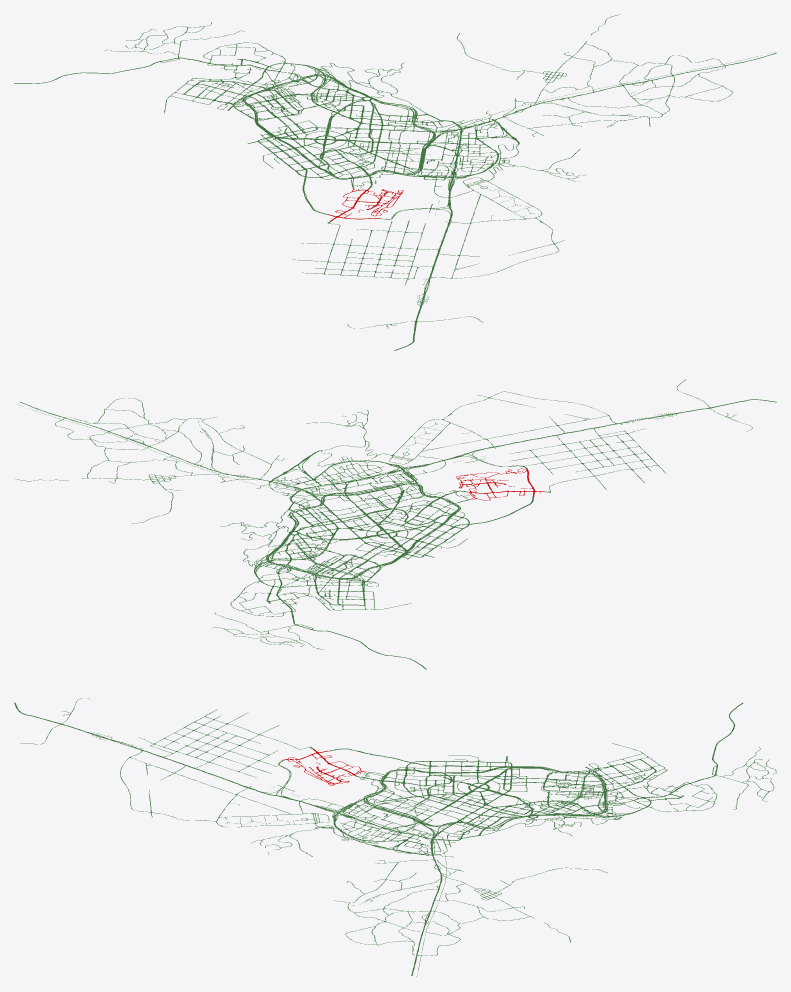
File: 3dmap_roads.gltf
3 views of the same model, one above another, from view 1: azimuth 30°, elevation 25°; view 2: azimuth 150°, elevation 25°; view 3: azimuth 270°, elevation 25° (orthographic). The views are drawn at different scales.
Visible parts, largest first — view 1: 3dmap_roads; view 2: 3dmap_roads; view 3: 3dmap_roads.
Part boxes in pixels (<box>): 3dmap_roads: <box>14,14,776,350</box>; 3dmap_roads: <box>14,379,776,669</box>; 3dmap_roads: <box>14,698,776,976</box>.
Size of the model in its own units: 10601 by 258 by 11989.
